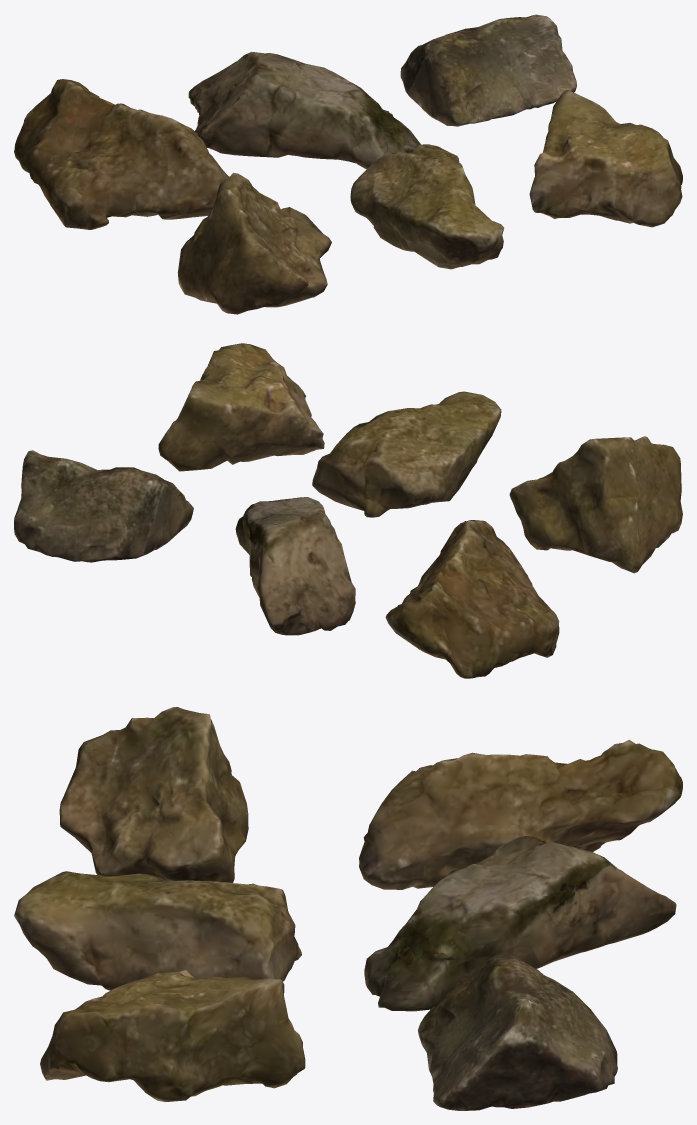
File: rock_moss_set_01.glb
The picture shows the model from 3 angles, top to bottom: view 1: azimuth 30°, elevation 25°; view 2: azimuth 150°, elevation 25°; view 3: azimuth 270°, elevation 25°; orthographic projection. The views are drawn at different scales.
Parts seen in each view (by area): view 1: rock_moss_set_01_rock01; view 2: rock_moss_set_01_rock01; view 3: rock_moss_set_01_rock01.
Boxes of the visible parts, x1,y1,x2,y2 form: rock_moss_set_01_rock01: (14, 14, 682, 314); rock_moss_set_01_rock01: (14, 343, 682, 678); rock_moss_set_01_rock01: (14, 707, 682, 1110).
Size of the model in its own units: 8 by 1.76 by 6.94.
1 material, 1 textured.
